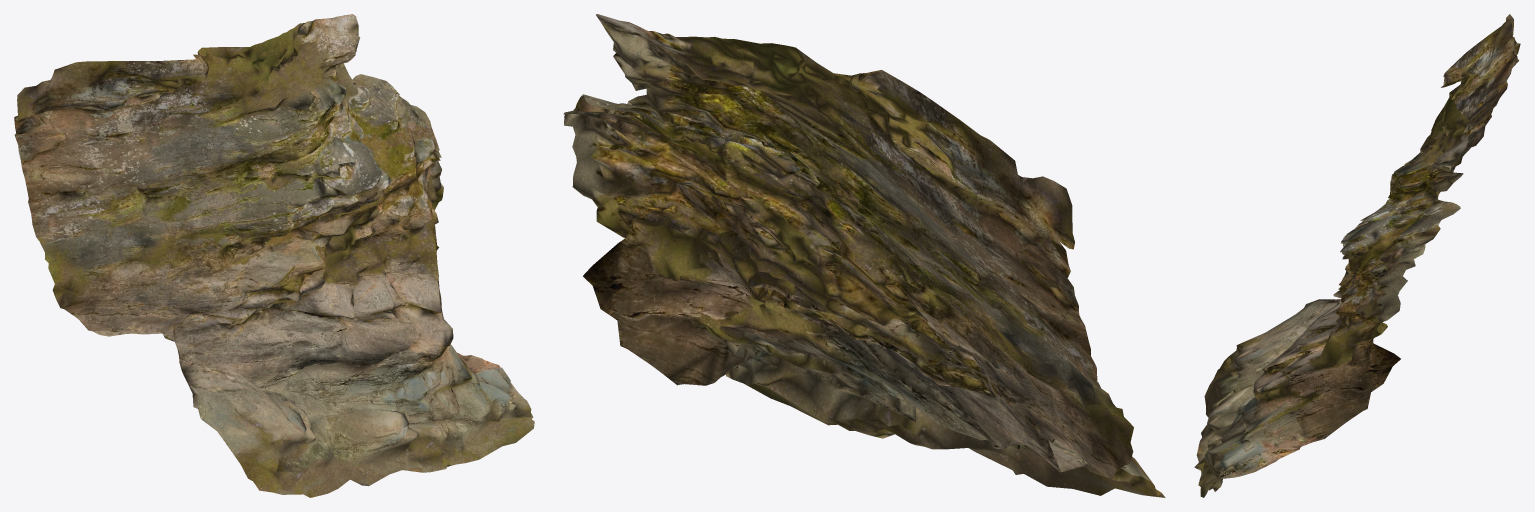
The model's file is rock_face_02.glb.
3 renders of one model, left to right at view 1: azimuth 30°, elevation 25°; view 2: azimuth 150°, elevation 25°; view 3: azimuth 270°, elevation 25°, orthographic. The views are drawn at different scales.
Visible parts, largest first — view 1: rock_face_02; view 2: rock_face_02; view 3: rock_face_02.
Part boxes in pixels (x1,y1,x2,y2): rock_face_02: [14, 14, 534, 497]; rock_face_02: [563, 14, 1165, 497]; rock_face_02: [1194, 14, 1520, 497].
Bounding box in the file's own units: 2.71 × 2.47 × 2.13.
1 material, 1 textured.
